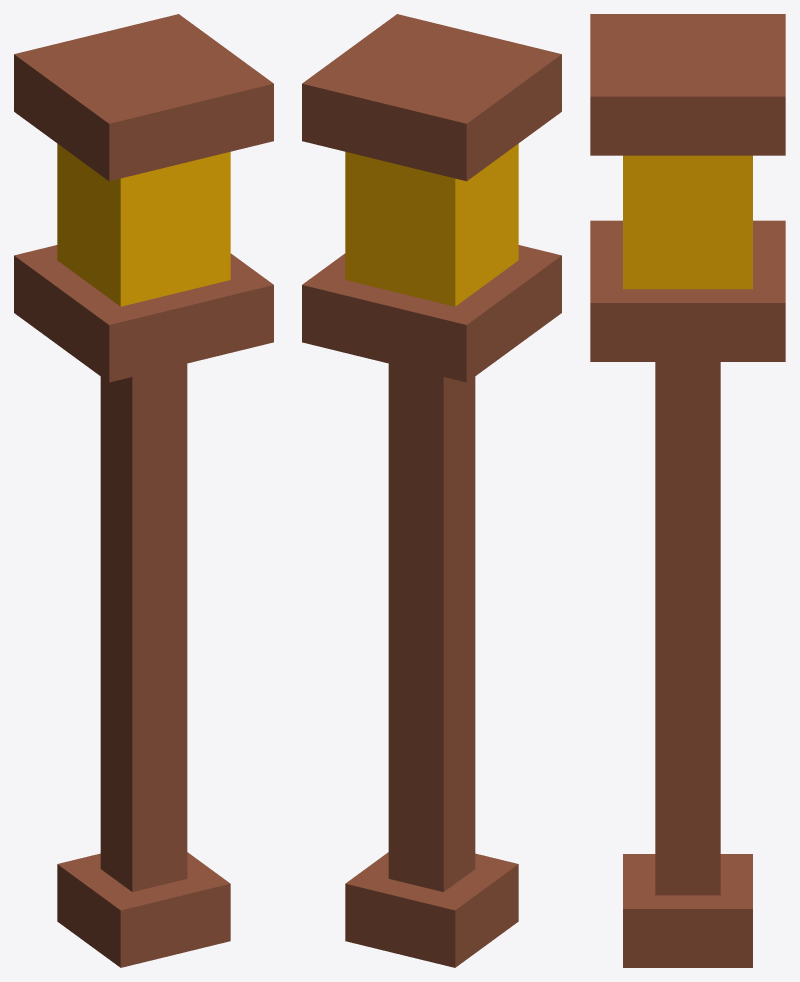
File: lamp.vox.obj
3 views of the same model, side by side, from view 1: azimuth 30°, elevation 25°; view 2: azimuth 150°, elevation 25°; view 3: azimuth 270°, elevation 25° (orthographic). The views are drawn at different scales.
Bounding box in the file's own units: 0.6 × 3 × 0.6.
Materials: 1 (1 with a texture image).
